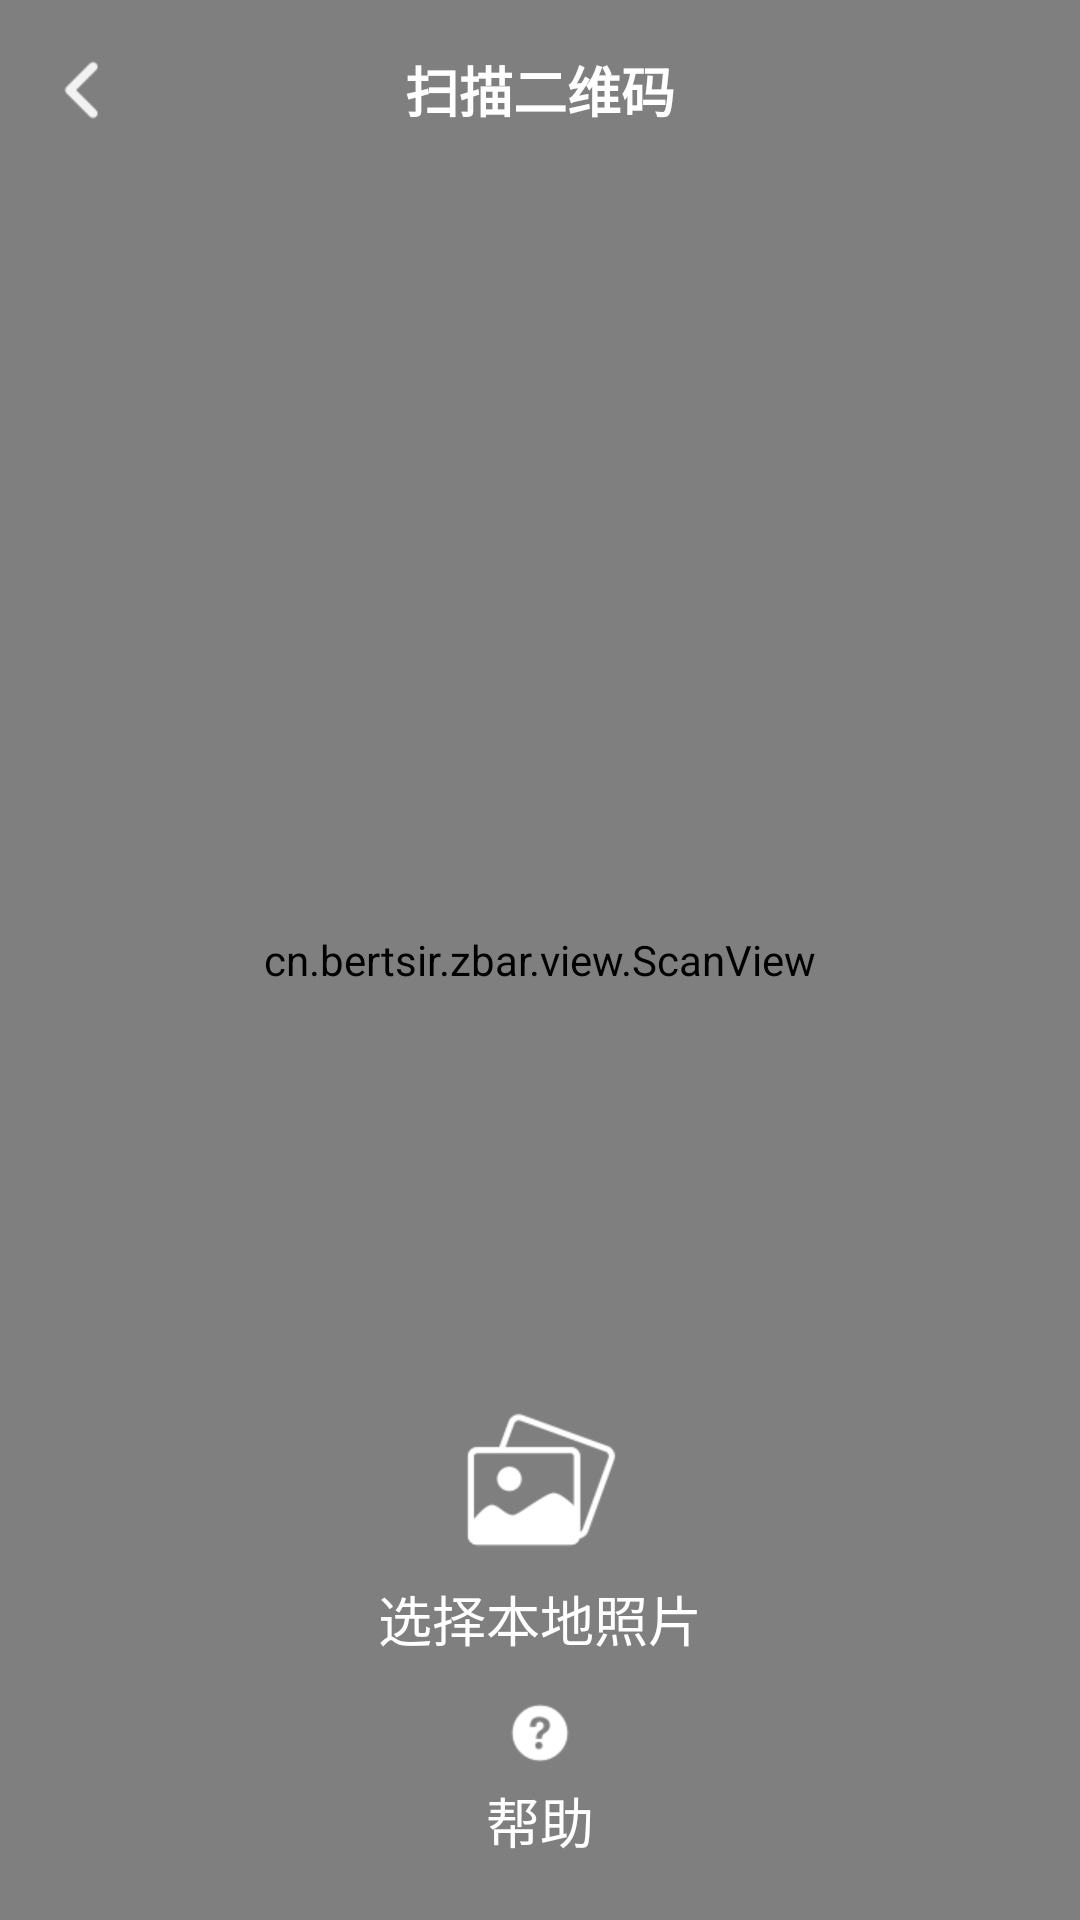

Screen size 1080 x 1920. Icon name, then its center in pixels as (x=x, y=y):
back: (x=81, y=90)
